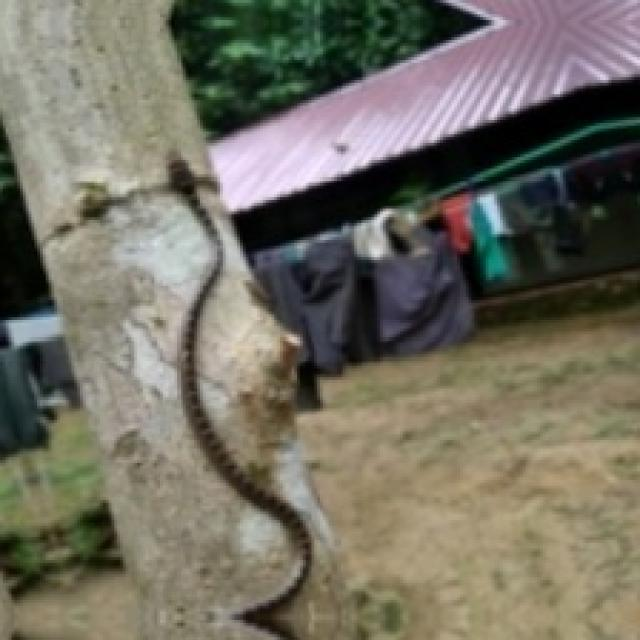paradise tree snake: (170, 159, 312, 640)
